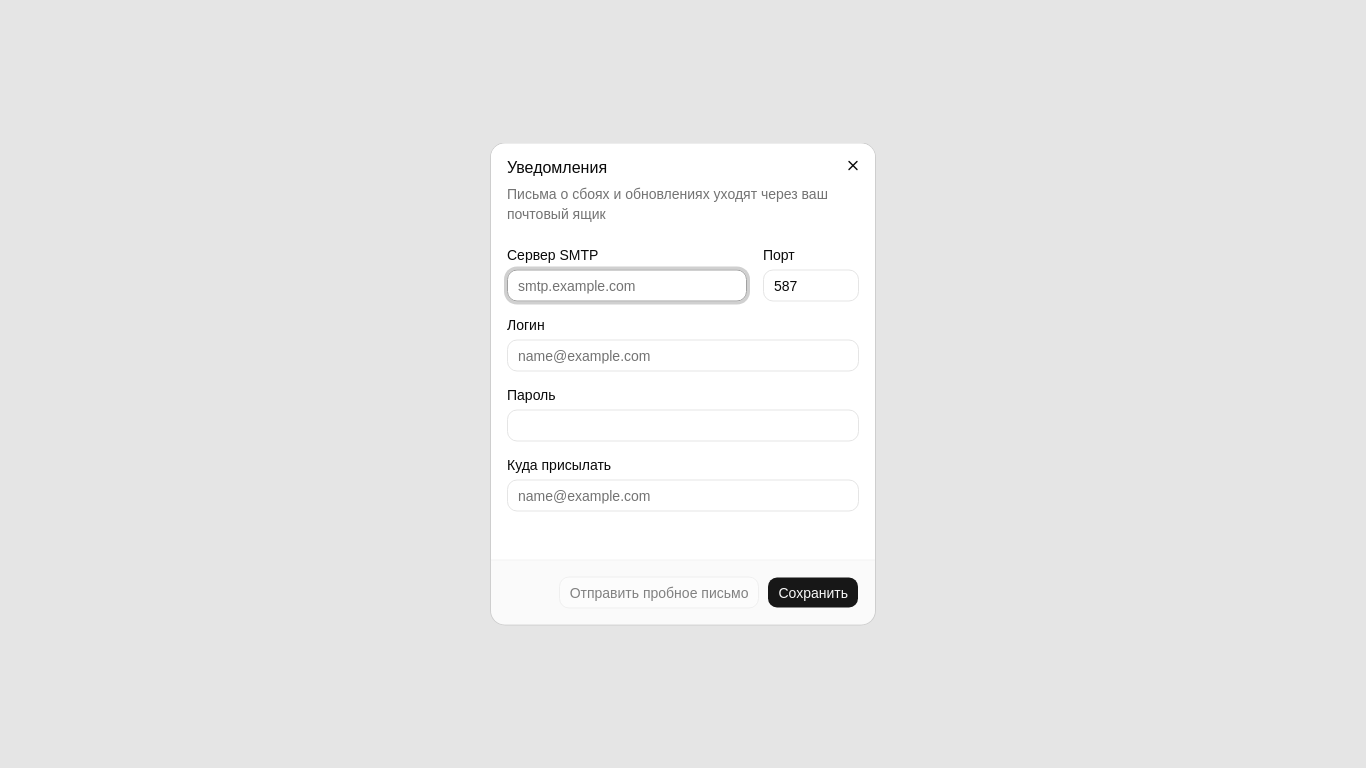
Test: уведомления › подсвечивает поле, которое отверг сервер
Expected: the field labelled "Сервер SMTP" is enabled, [507,270,747,302]
Click the button "Сохранить" at (813, 592), box [767,576,859,608]
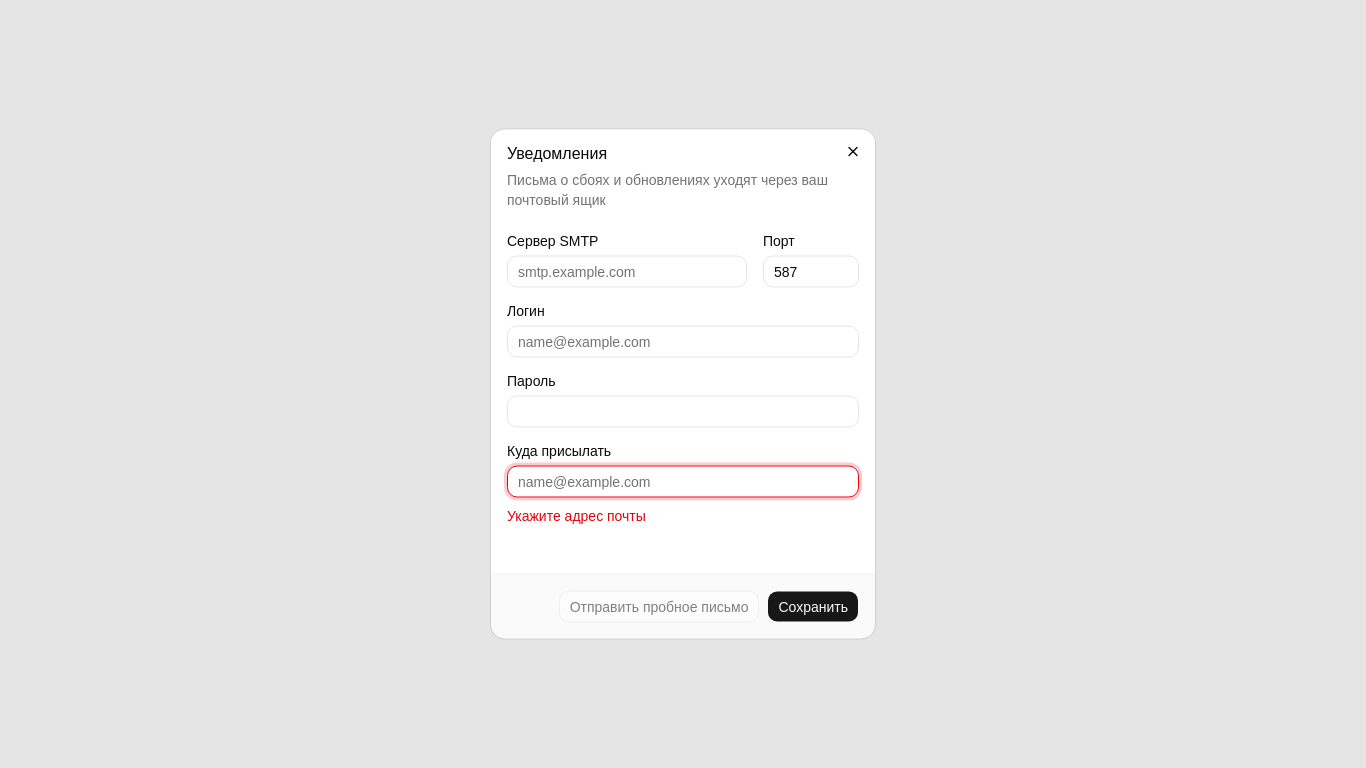
Result: the text "Укажите адрес почты" is shown at [507,508,646,524]
